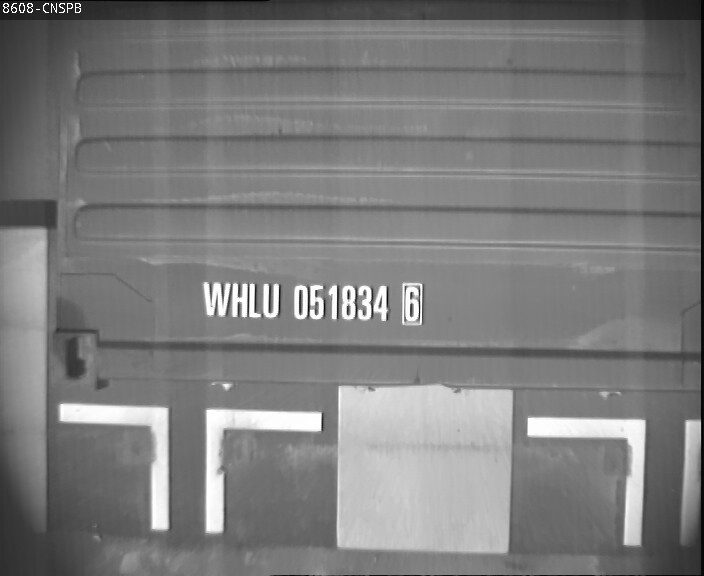groundmarker_1: (58, 400, 323, 532)
